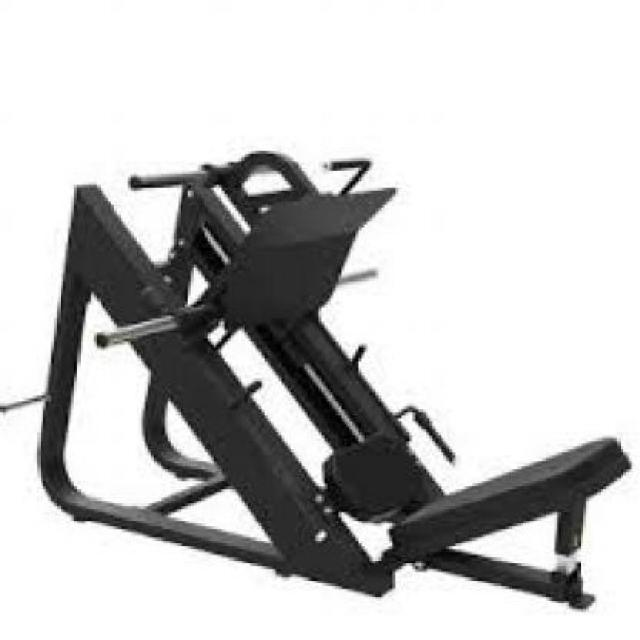leg press: (3, 114, 634, 615)
